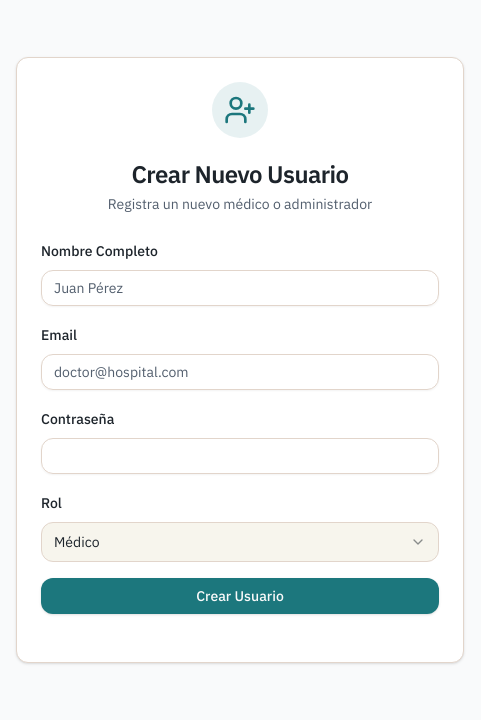
Scenario: CreateUserPage › shows validation errors for empty fields
Click the button "Crear Usuario": (240, 596) [41,578,439,614]
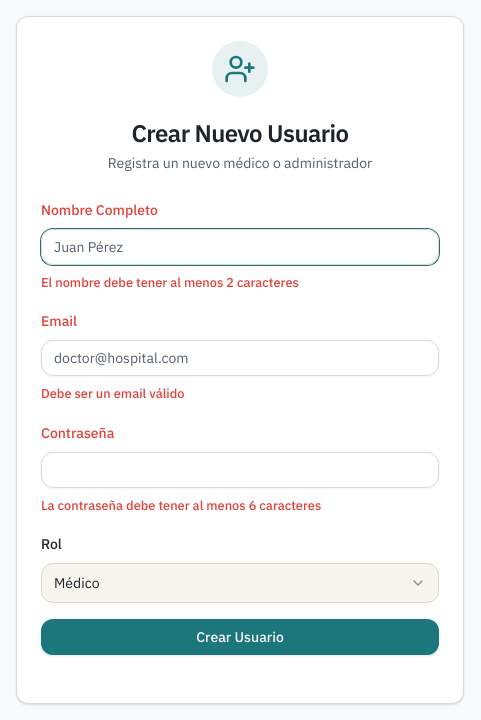
Now the text "El nombre debe tener al menos 2 caracteres" is shown, box [41,274,299,291]
Now the text "Debe ser un email válido" is shown, box [41,385,184,402]
Now the text "La contraseña debe tener al menos 6 caracteres" is shown, box [41,497,321,514]
